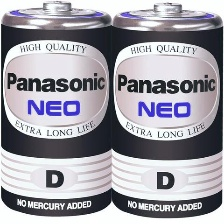battery: (109, 1, 223, 220), (0, 0, 114, 219)
